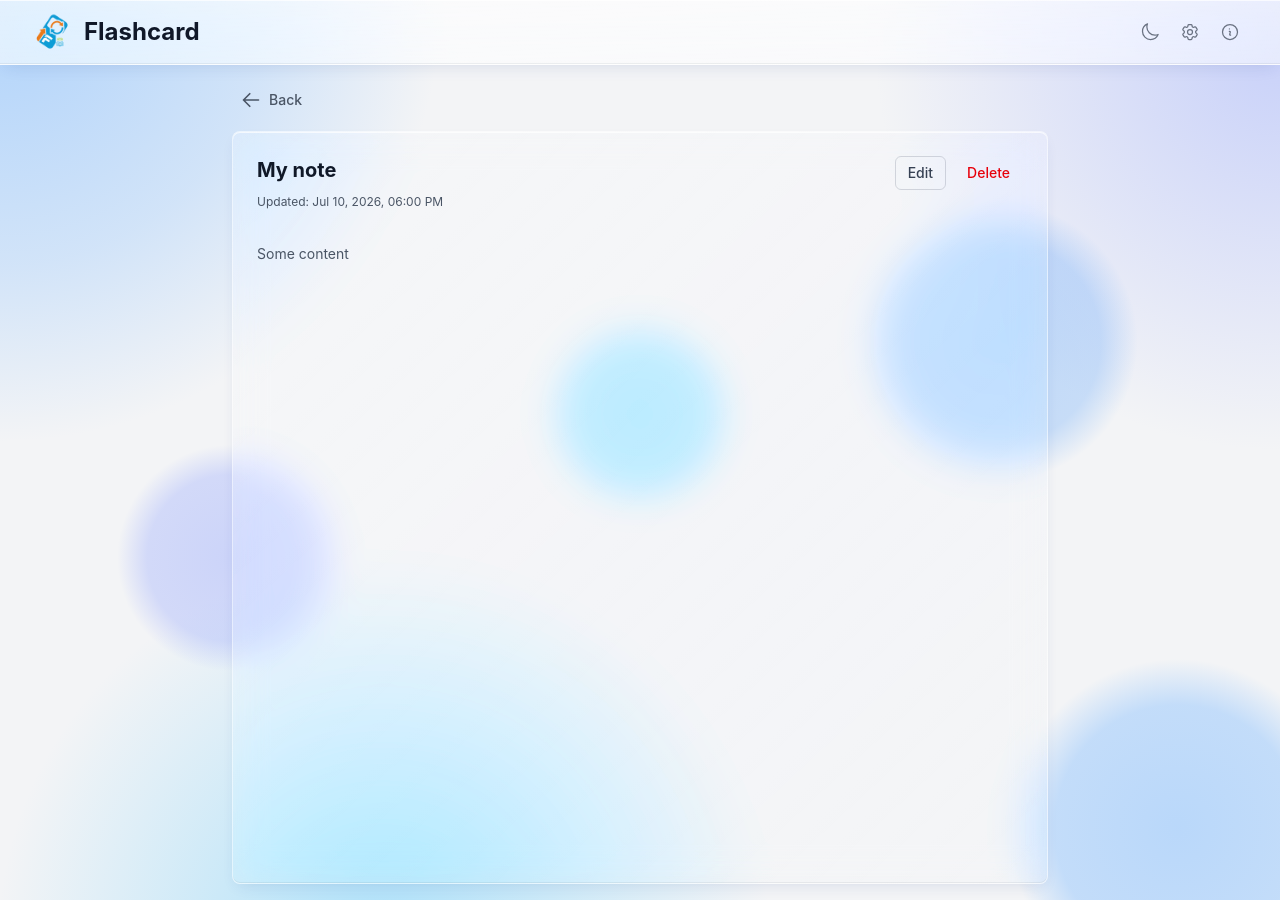
Test: NoteDetailPage unsaved changes › confirms before leaving when Back is pressed and the title was changed and the user discards
Expected: the heading "My note" is shown, [257,156,336,184]
Click the button "Edit".
click(920, 173)  # box [895,156,946,190]
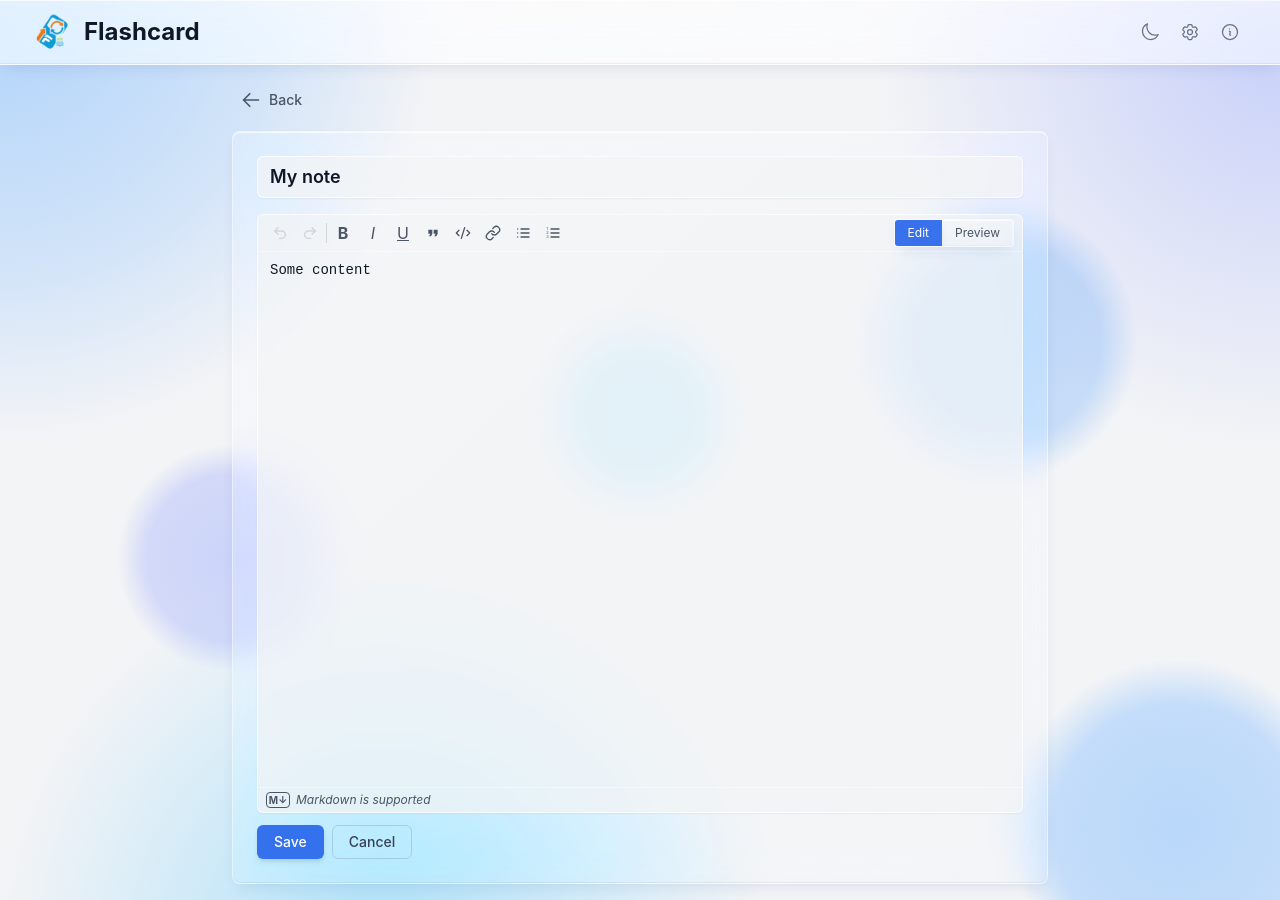
Replace the text in the field with placeholder "Note title" with "Edited text" at (640, 177), box [257,156,1023,198]
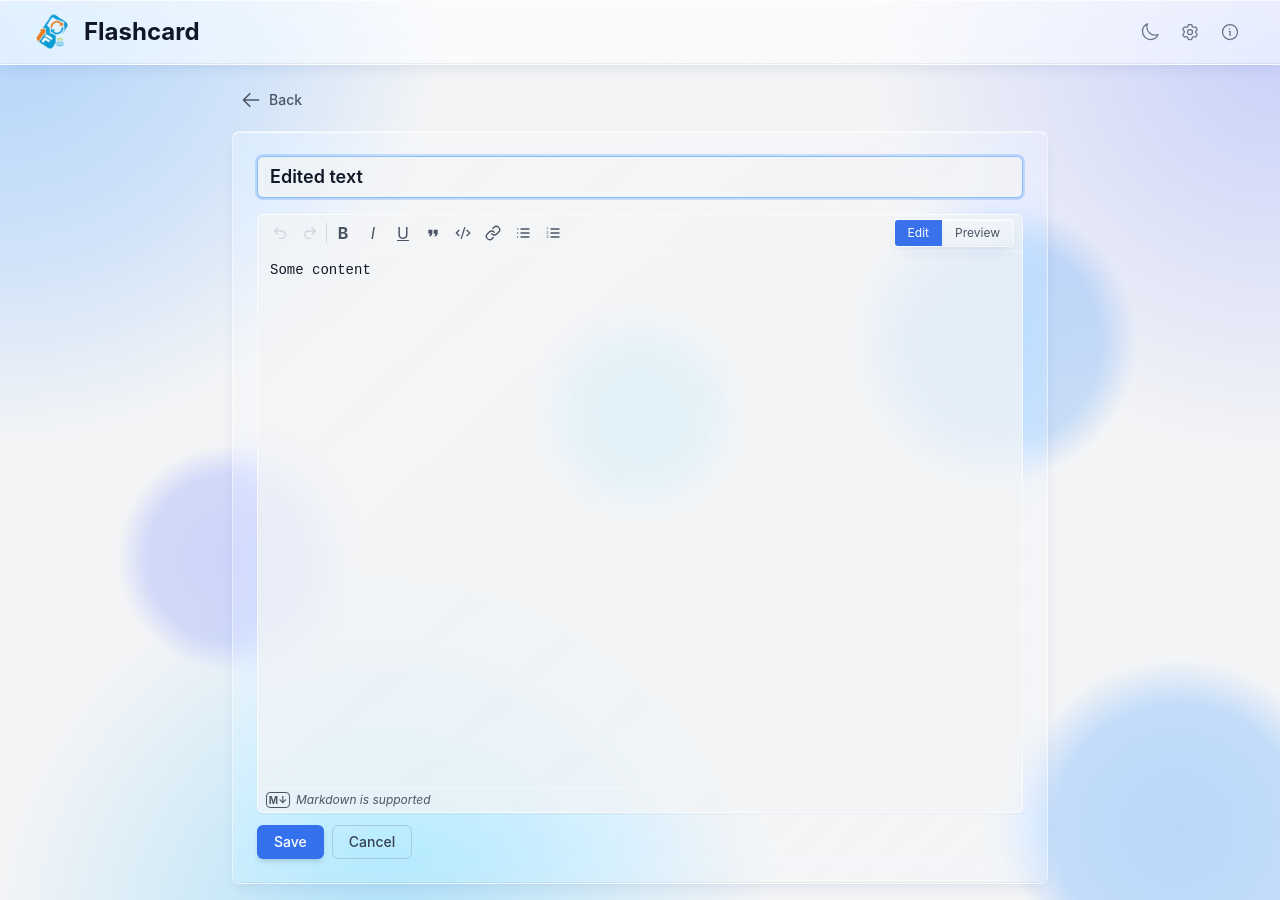
Click the button with aria-label "Go back".
click(272, 100)  # box [232,81,311,119]
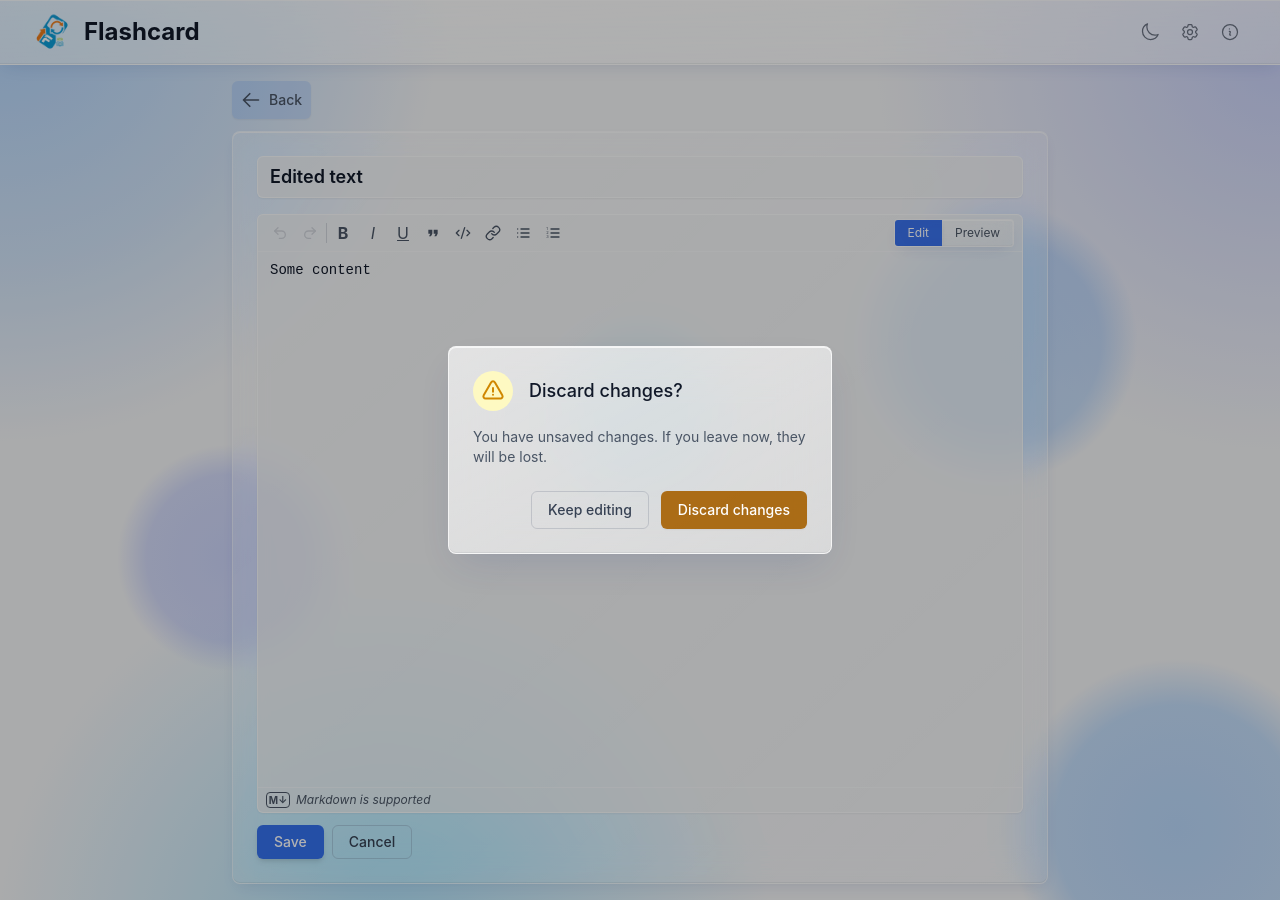
Now the heading "Discard changes?" is shown, box [529,377,683,405]
Click the button "Discard changes".
click(734, 510)  # box [661,491,807,529]
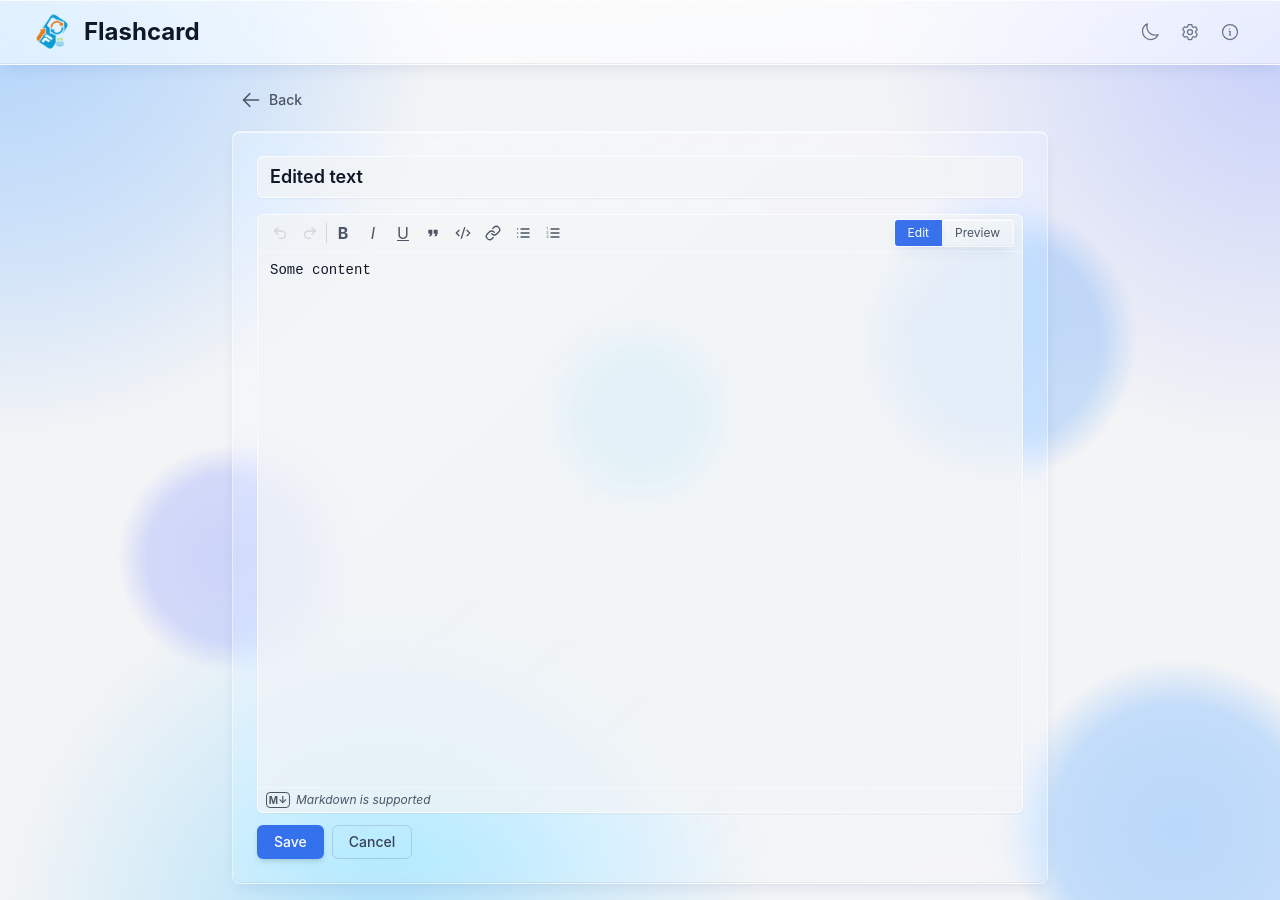
Now the heading "Discard changes?" is gone
